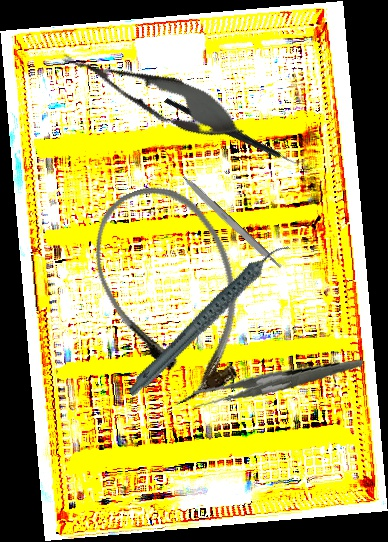Cannula: (74, 168, 271, 416)
Chopper: (163, 57, 308, 204)
Dressing Forceps: (190, 341, 364, 426)
Handpiece: (104, 240, 315, 399)
Micro Scissor: (51, 35, 254, 153)
Scalpel Handle: (179, 174, 284, 273)
